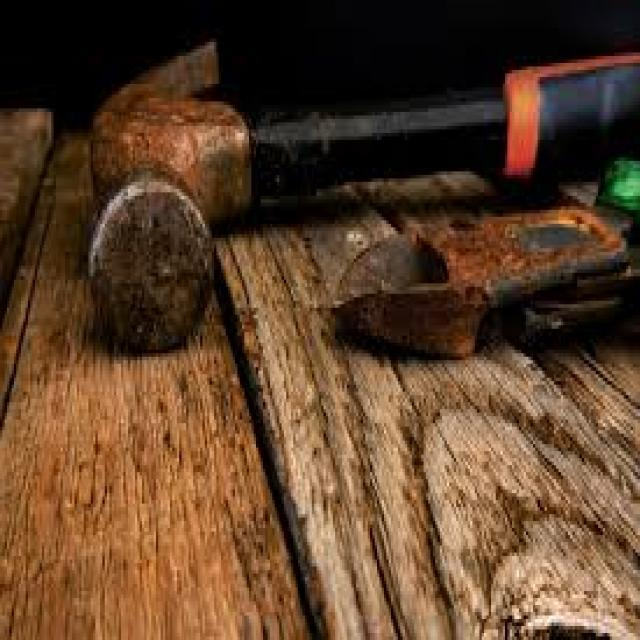Palu: (86, 25, 624, 345)
